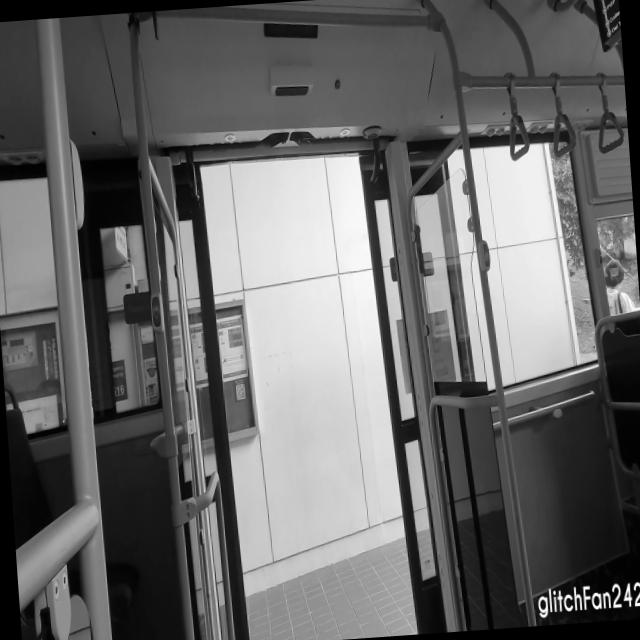bus-door: (359, 140, 468, 632), (170, 158, 248, 640), (78, 157, 163, 422), (153, 209, 195, 432)
